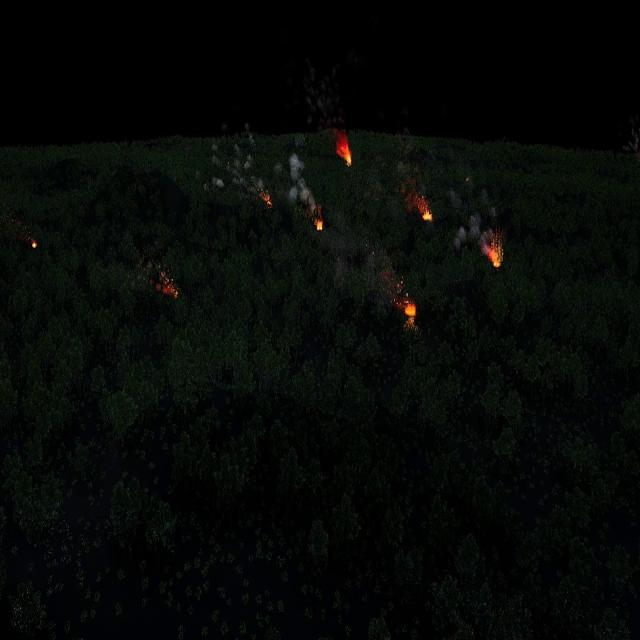fire: (485, 242, 502, 268), (338, 138, 352, 166), (160, 278, 179, 298), (406, 302, 418, 322), (422, 208, 433, 222), (264, 192, 273, 205), (315, 218, 324, 230), (32, 240, 38, 250), (465, 174, 471, 183)
smoke: (204, 122, 265, 196), (446, 182, 496, 252), (302, 64, 348, 130), (275, 150, 316, 212), (366, 250, 404, 305), (398, 159, 428, 213), (137, 252, 165, 280), (10, 218, 30, 238)
